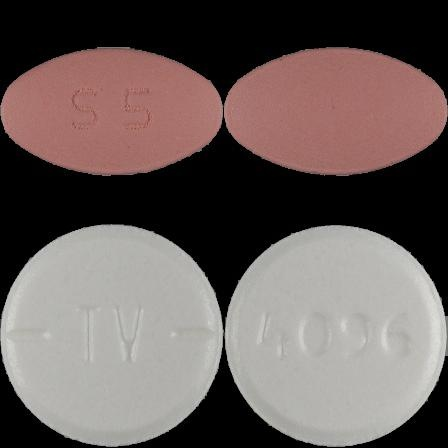42254-060: (0, 0, 224, 224)
